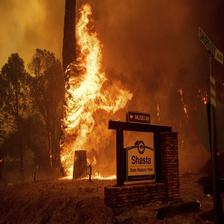fire: (51, 12, 133, 181)
